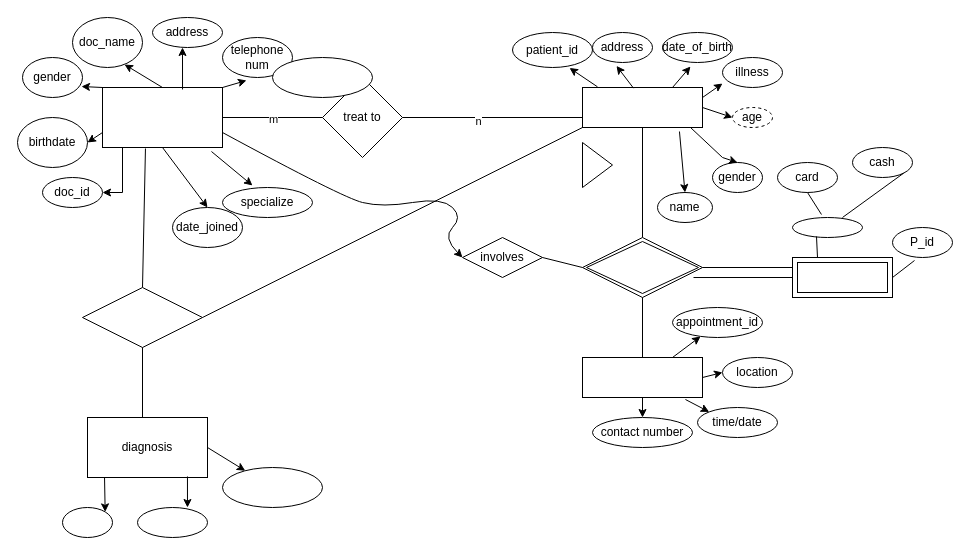
The diagram is 970 pixels wide and 555 high, and some of its shapes have lost their labels. Here are the shapes that lost their labels. From the top down, the centre of each, then its label:
At (x=322, y=77): "Attribute".
At (x=162, y=117): "doctor".
At (x=642, y=107): "patient".
At (x=597, y=165): "is a".
At (x=827, y=227): "Pmode".
At (x=642, y=267): "makes".
At (x=842, y=277): "payement".
At (x=142, y=317): "recored".
At (x=642, y=377): "appointment".
At (x=272, y=487): "last_appoit_id".
At (x=87, y=522): "DID".
At (x=172, y=522): "d_name".
